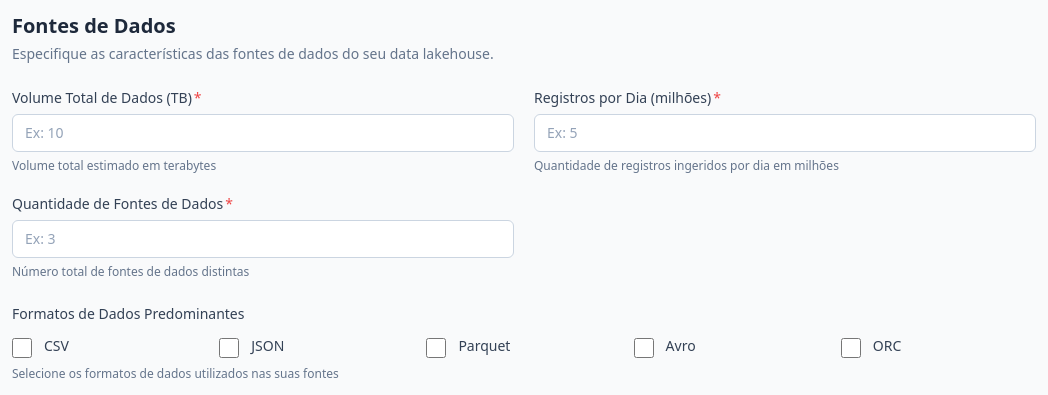
Test case: StepSources › validates data_source_count must be non-negative integer
The image size is (1048, 395).
In the number field labelled "Quantidade de Fontes de Dados*": [263, 239] box [12,220,514,258], type "-1"
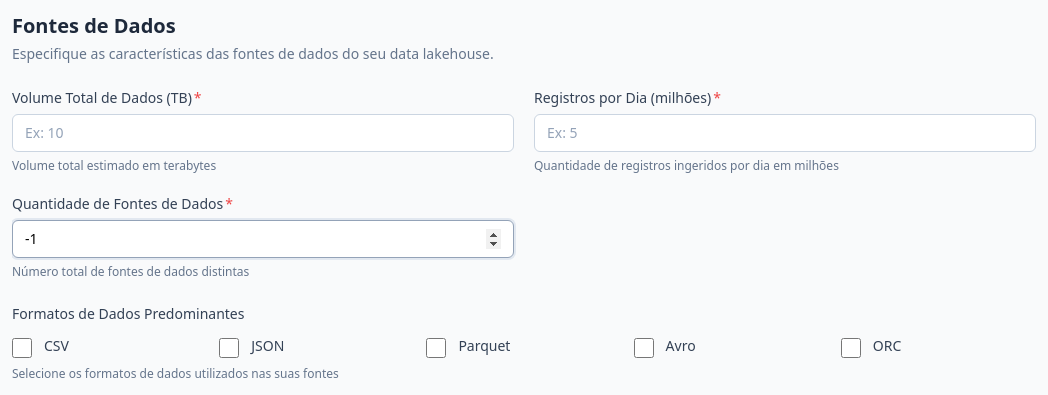
Leave the number field labelled "Quantidade de Fontes de Dados*", box [12,220,514,258]
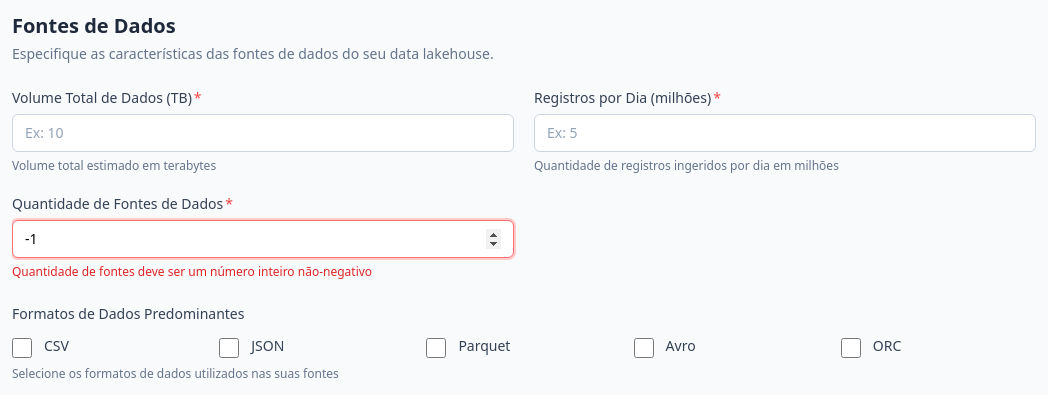
Result: the text "Quantidade de fontes deve ser um número inteiro não-negativo" is shown at [12,263,372,280]
